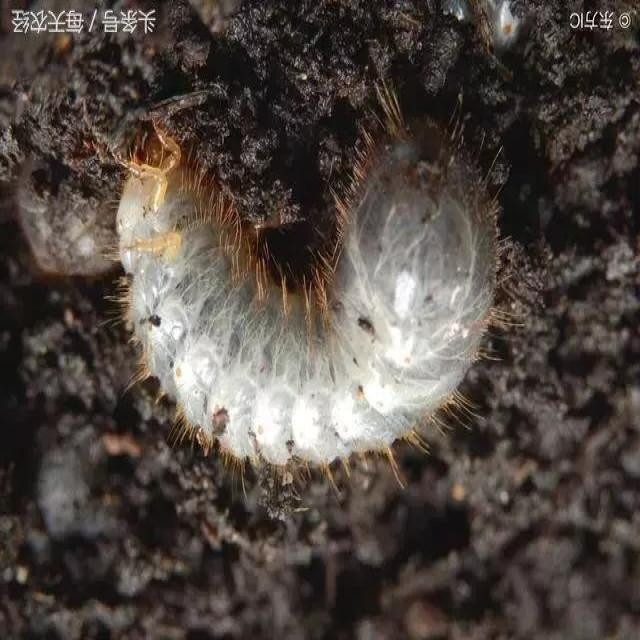grub: (110, 108, 509, 489)
